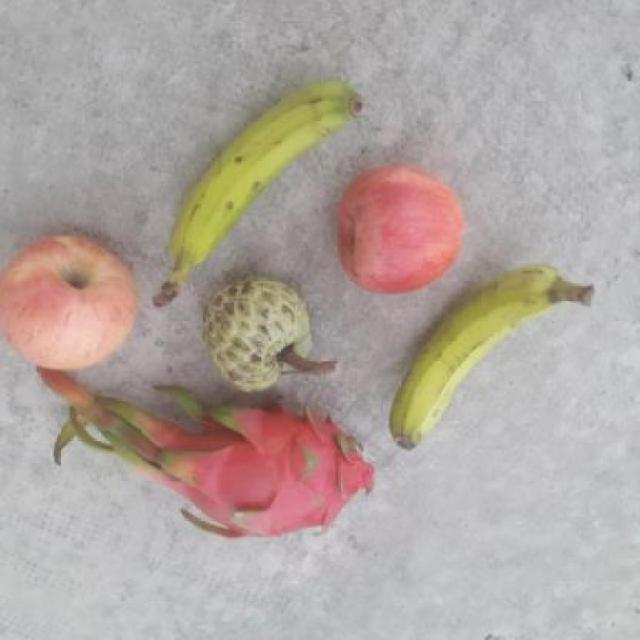apple: (0, 232, 145, 371), (338, 162, 471, 300)
banana: (150, 76, 368, 310), (388, 252, 602, 451)
dragon fruit: (170, 388, 381, 547)
sugar apple: (198, 268, 318, 394)
